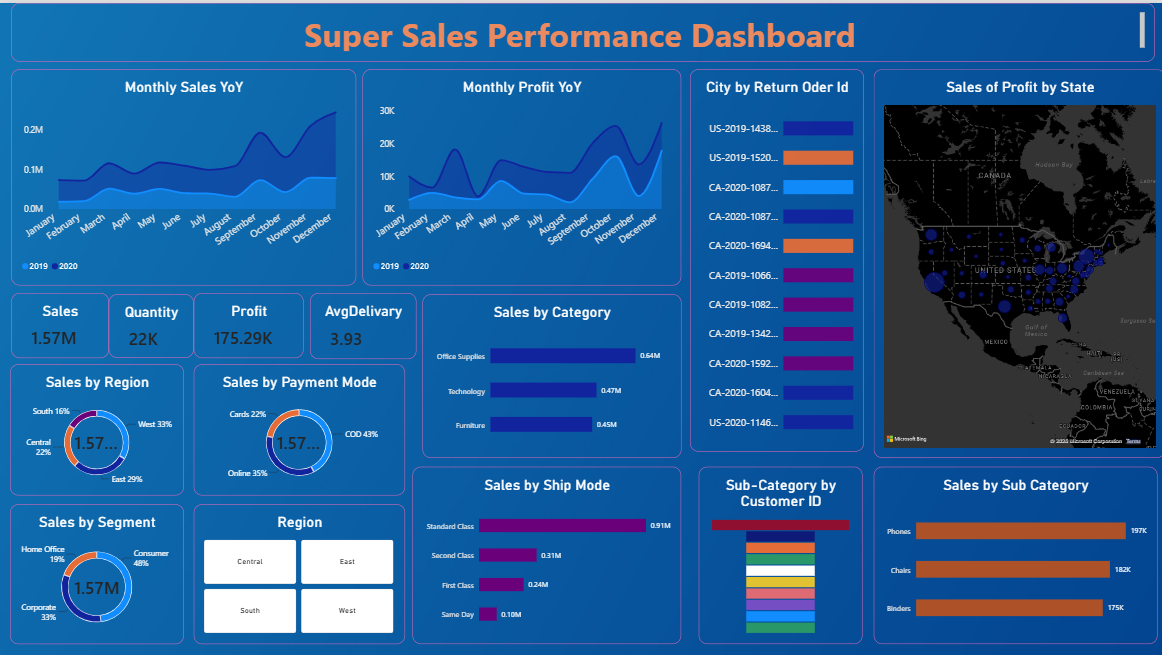

Layout of this report page (visuals, bound fields, positions):
{"tool":"powerbi","page":{"name":"Page 1","canvas":[1920,1080],"ordinal":0},"visuals":[{"type":"clusteredBarChart","title":"Sales by Category","fields":{"Category":["SuperStore_Sales_Dataset.Category"],"Y":["Sum(SuperStore_Sales_Dataset.Sales)"]},"box":[695.7,479.6,426.1,269.6],"z":0},{"type":"clusteredBarChart","title":"Sales by Sub Category","fields":{"Y":["Sum(SuperStore_Sales_Dataset.Sales)"],"Category":["SuperStore_Sales_Dataset.Sub-Category"]},"box":[1438.8,763.6,467.2,292.3],"z":1000},{"type":"clusteredBarChart","title":"Sales by Ship Mode","fields":{"Y":["Sum(SuperStore_Sales_Dataset.Sales)"],"Category":["SuperStore_Sales_Dataset.Ship Mode"]},"box":[679.2,763.6,442.5,292.3],"z":2000},{"type":"stackedAreaChart","title":"Monthly Sales YoY","fields":{"Category":["SuperStore_Sales_Dataset.Order Date.Variation.Date Hierarchy.Month","SuperStore_Sales_Dataset.Order Date.Variation.Date Hierarchy.Day"],"Y":["Sum(SuperStore_Sales_Dataset.Sales)"],"Series":["SuperStore_Sales_Dataset.Order Date.Variation.Date Hierarchy.Year"]},"box":[18.5,109.1,568.1,356.1],"z":3000},{"type":"stackedAreaChart","title":"Monthly Profit YoY","fields":{"Category":["SuperStore_Sales_Dataset.Order Date.Variation.Date Hierarchy.Month","SuperStore_Sales_Dataset.Order Date.Variation.Date Hierarchy.Day"],"Series":["SuperStore_Sales_Dataset.Order Date.Variation.Date Hierarchy.Year"],"Y":["Sum(SuperStore_Sales_Dataset.Profit)"]},"box":[596.9,109.1,524.9,356.1],"z":4000},{"type":"map","title":"Sales  of Profit by State","fields":{"Category":["SuperStore_Sales_Dataset.State"],"Size":["Sum(SuperStore_Sales_Dataset.Sales)"]},"box":[1438.8,109.1,481.6,640.1],"z":5000},{"type":"donutChart","title":" Sales by Segment","fields":{"Category":["SuperStore_Sales_Dataset.Segment"],"Y":["Sum(SuperStore_Sales_Dataset.Sales)"]},"box":[16.5,825.4,286.1,230.5],"z":6000},{"type":"donutChart","title":" Sales by Region","fields":{"Y":["Sum(SuperStore_Sales_Dataset.Sales)"],"Category":["SuperStore_Sales_Dataset.Region"]},"box":[16.5,594.9,286.1,216.1],"z":7000},{"type":"donutChart","title":" Sales by Payment Mode","fields":{"Y":["Sum(SuperStore_Sales_Dataset.Sales)"],"Category":["SuperStore_Sales_Dataset.Payment Mode"]},"box":[319,594.9,347.9,216.1],"z":8000},{"type":"advancedSlicerVisual","fields":{"Values":["SuperStore_Sales_Dataset.Region"]},"box":[319,825.4,347.9,230.5],"z":9000},{"type":"textbox","box":[18.5,0,1883.4,96.7],"z":10000},{"type":"cardVisual","title":"Sales","fields":{"Data":["Sum(SuperStore_Sales_Dataset.Sales)"]},"box":[18.5,477.5,160.5,107],"z":11000},{"type":"cardVisual","title":"Quantity ","fields":{"Data":["Sum(SuperStore_Sales_Dataset.Quantity)"]},"box":[179.1,479.6,140,105],"z":12000},{"type":"cardVisual","title":"Profit","fields":{"Data":["Sum(SuperStore_Sales_Dataset.Profit)"]},"box":[319,477.5,181.1,107],"z":13000},{"type":"cardVisual","title":"AvgDelivary ","fields":{"Data":["Avg(SuperStore_Sales_Dataset.AvgDelivary)"]},"box":[510.5,477.5,175,109.1],"z":14000},{"type":"funnel","title":" Sub-Category by Customer ID","fields":{"Category":["SuperStore_Sales_Dataset.Customer ID"],"Y":["CountNonNull(SuperStore_Sales_Dataset.Sub-Category)"]},"box":[1150.6,763.6,269.6,292.3],"z":15000},{"type":"hundredPercentStackedBarChart","title":"City by Return Oder Id","fields":{"Category":["SuperStore_Sales_Dataset.Order ID"],"Y":["CountNonNull(SuperStore_Sales_Dataset.Returns)"],"Series":["SuperStore_Sales_Dataset.City"]},"box":[1136.2,109.1,286.1,629.8],"z":16000}]}

Visuals, with their boxes in screenshot pixels (x1, y1, x2, y2), scaled from the page's 1920x1080 canvas onto the 1162x655 screenshot:
"Sales by Category" clusteredBarChart: bbox=[421, 291, 679, 454]
"Sales by Sub Category" clusteredBarChart: bbox=[871, 463, 1154, 640]
"Sales by Ship Mode" clusteredBarChart: bbox=[411, 463, 679, 640]
"Monthly Sales YoY" stackedAreaChart: bbox=[11, 66, 355, 282]
"Monthly Profit YoY" stackedAreaChart: bbox=[361, 66, 679, 282]
"Sales  of Profit by State" map: bbox=[871, 66, 1161, 454]
" Sales by Segment" donutChart: bbox=[10, 501, 183, 640]
" Sales by Region" donutChart: bbox=[10, 361, 183, 492]
" Sales by Payment Mode" donutChart: bbox=[193, 361, 404, 492]
advancedSlicerVisual - SuperStore_Sales_Dataset.Region: bbox=[193, 501, 404, 640]
textbox: bbox=[11, 0, 1151, 59]
"Sales" cardVisual: bbox=[11, 290, 108, 354]
"Quantity " cardVisual: bbox=[108, 291, 193, 355]
"Profit" cardVisual: bbox=[193, 290, 303, 354]
"AvgDelivary " cardVisual: bbox=[309, 290, 415, 356]
" Sub-Category by Customer ID" funnel: bbox=[696, 463, 860, 640]
"City by Return Oder Id" hundredPercentStackedBarChart: bbox=[688, 66, 861, 448]
